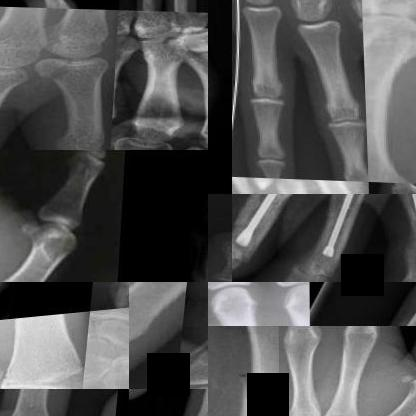fracture: (232, 194, 304, 253), (308, 194, 367, 266), (25, 54, 91, 92), (226, 368, 279, 415), (232, 176, 310, 193), (397, 194, 415, 244), (190, 322, 207, 374)
